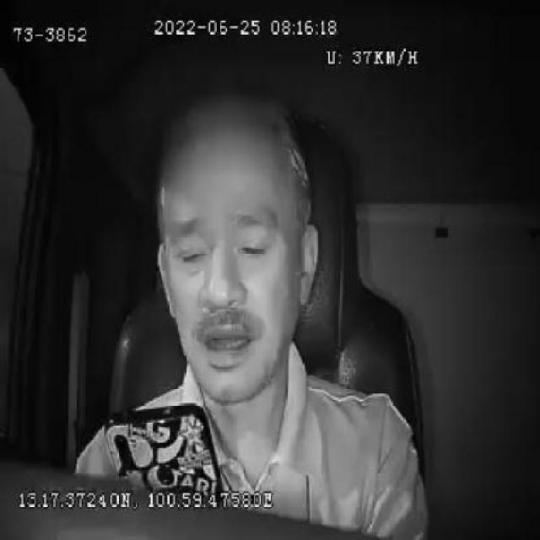phone: (105, 404, 225, 490)
